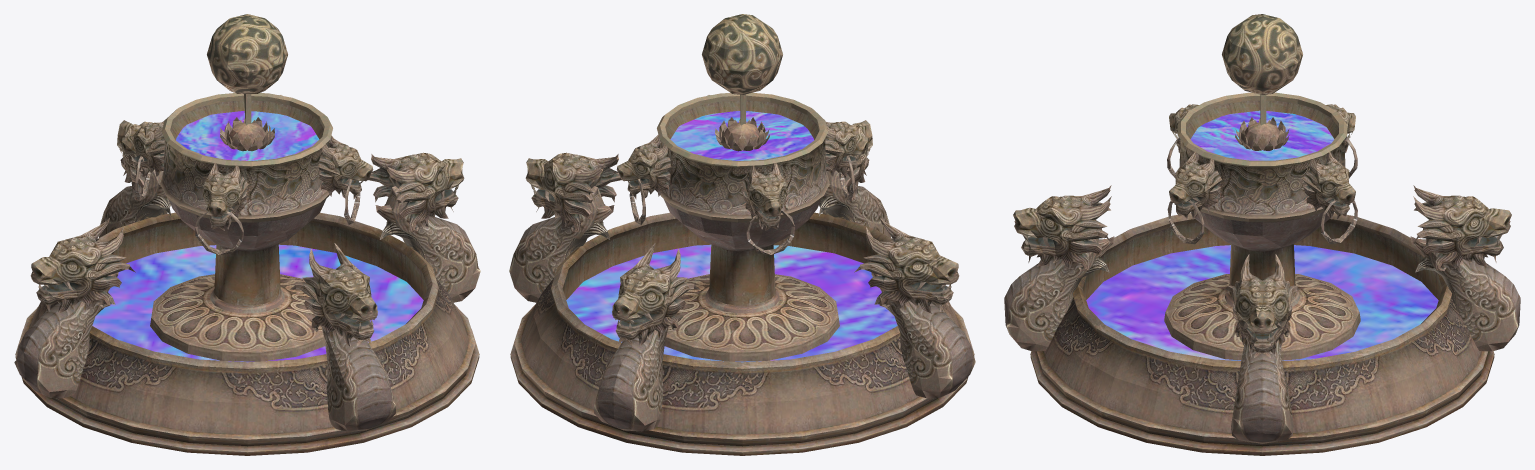
The model's file is bg_anh_delphiinn_fountain01_sm_kms.FBX.
3 views of the same model, side by side, from view 1: azimuth 30°, elevation 25°; view 2: azimuth 150°, elevation 25°; view 3: azimuth 270°, elevation 25° (orthographic).
Parts seen in each view (by area): view 1: bg_anh_delphiinn_fountain01_sm_kms; view 2: bg_anh_delphiinn_fountain01_sm_kms; view 3: bg_anh_delphiinn_fountain01_sm_kms.
Part boxes in pixels (bbox=[...]): bg_anh_delphiinn_fountain01_sm_kms: bbox=[14, 14, 480, 455]; bg_anh_delphiinn_fountain01_sm_kms: bbox=[509, 14, 975, 455]; bg_anh_delphiinn_fountain01_sm_kms: bbox=[1004, 14, 1520, 455].
Size of the model in its own units: 450 by 327 by 450.
